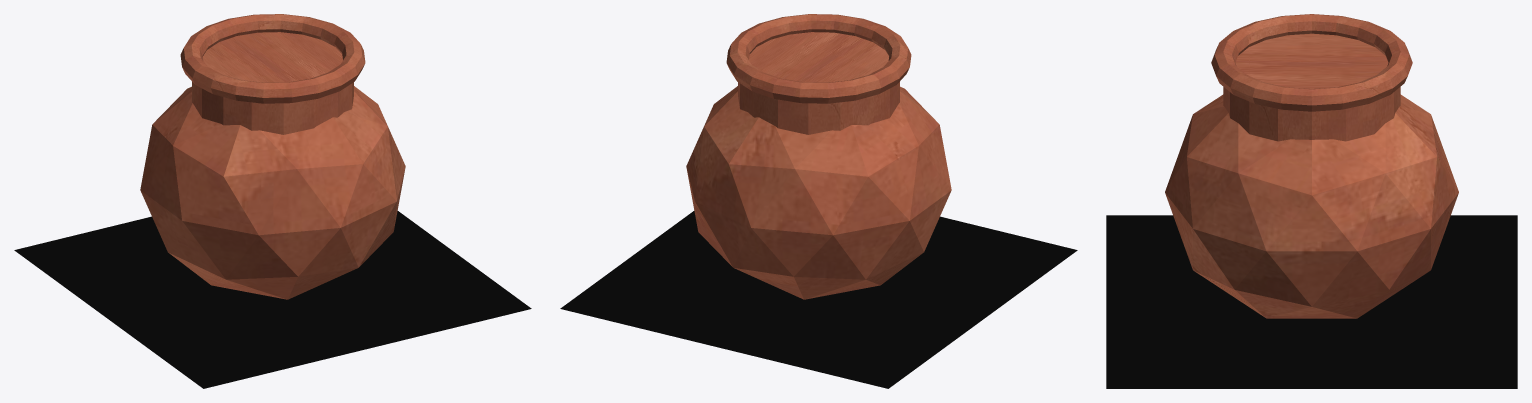
Rendered from pot-large.glb.
3 views of the same model, side by side, from view 1: azimuth 30°, elevation 25°; view 2: azimuth 150°, elevation 25°; view 3: azimuth 270°, elevation 25° (orthographic). The views are drawn at different scales.
Visible parts, largest first — view 1: ContactShadow, belly, neck, rim; view 2: ContactShadow, belly, neck, rim; view 3: ContactShadow, belly, neck, rim.
Part boxes in pixels (left/top/right/bottom): ContactShadow: left=14, top=211, right=531, bottom=388; belly: left=140, top=86, right=405, bottom=299; neck: left=192, top=32, right=353, bottom=134; rim: left=180, top=14, right=365, bottom=103; ContactShadow: left=560, top=211, right=1077, bottom=388; belly: left=686, top=86, right=951, bottom=299; neck: left=738, top=32, right=899, bottom=134; rim: left=726, top=14, right=911, bottom=103; ContactShadow: left=1106, top=215, right=1517, bottom=388; belly: left=1165, top=94, right=1458, bottom=318; neck: left=1223, top=33, right=1400, bottom=141; rim: left=1211, top=14, right=1412, bottom=111.
Size of the model in its own units: 0.95 by 0.6572 by 0.95.
Materials: 3 (2 with a texture image).
